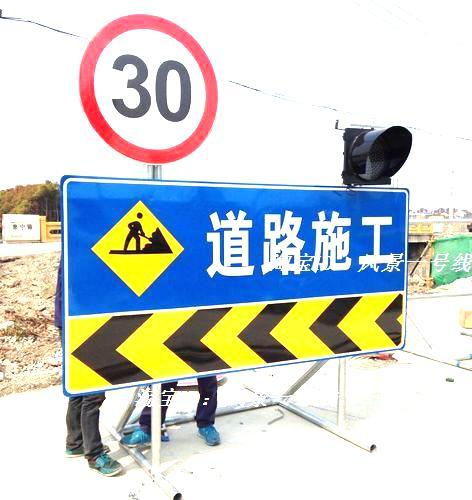sign: (54, 176, 409, 386)
